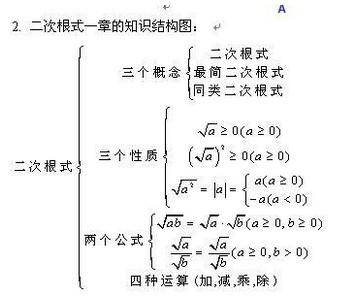division: (166, 250, 194, 257), (206, 251, 234, 256)
sqrt: (165, 174, 198, 200), (155, 209, 186, 230), (166, 249, 196, 270), (194, 144, 216, 172), (200, 208, 223, 233), (169, 231, 194, 252), (197, 119, 218, 139), (229, 207, 244, 234), (209, 253, 232, 270), (207, 235, 232, 250)
square: (219, 143, 227, 152), (189, 181, 194, 187)
